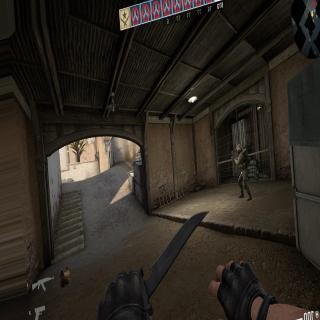CT-Body: (234, 140, 252, 198)
CT-Head: (236, 144, 241, 156)
